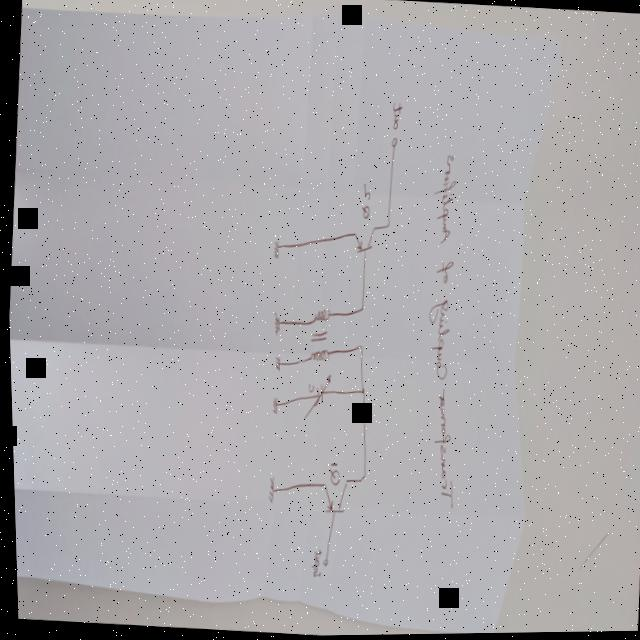capacitor: (300, 372, 330, 422)
ground: (263, 474, 274, 505), (270, 311, 281, 337), (271, 239, 279, 260), (269, 396, 276, 416), (272, 355, 279, 373)
junction: (356, 474, 363, 484), (358, 387, 363, 397), (356, 343, 362, 351), (358, 305, 363, 313), (385, 223, 389, 230)
terminal: (390, 137, 397, 149), (319, 558, 326, 568)
text: (409, 153, 474, 511), (358, 181, 372, 221), (305, 547, 320, 579), (389, 100, 403, 131), (324, 462, 339, 487), (306, 383, 313, 394)
transformer: (306, 307, 331, 363)
transistor: (317, 476, 347, 516), (352, 224, 375, 255)
